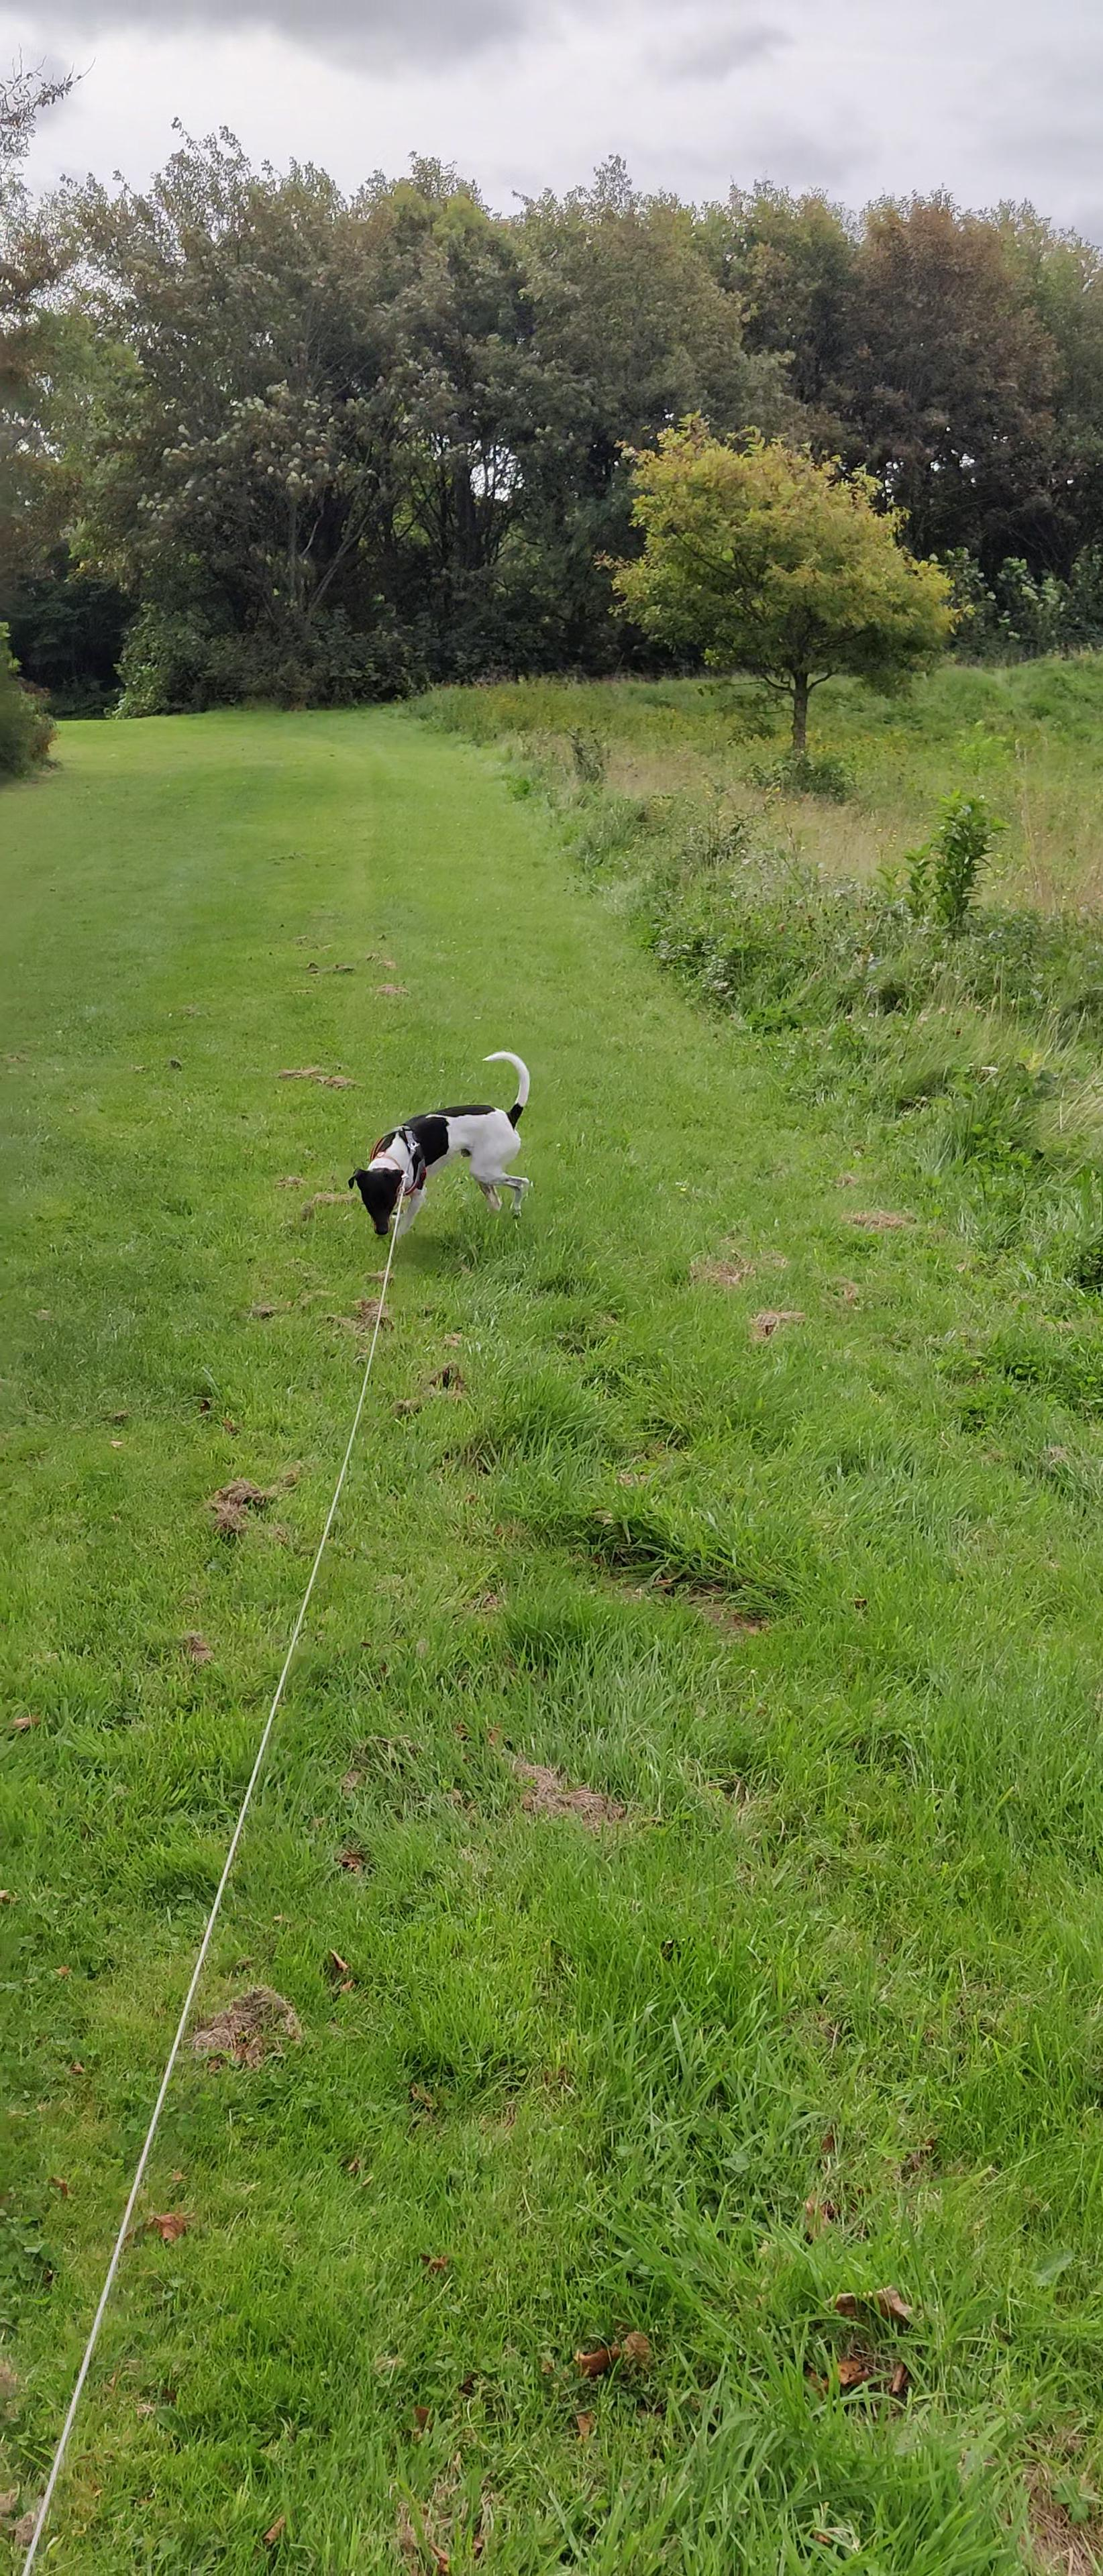Dog: (340, 1046, 544, 1240)
